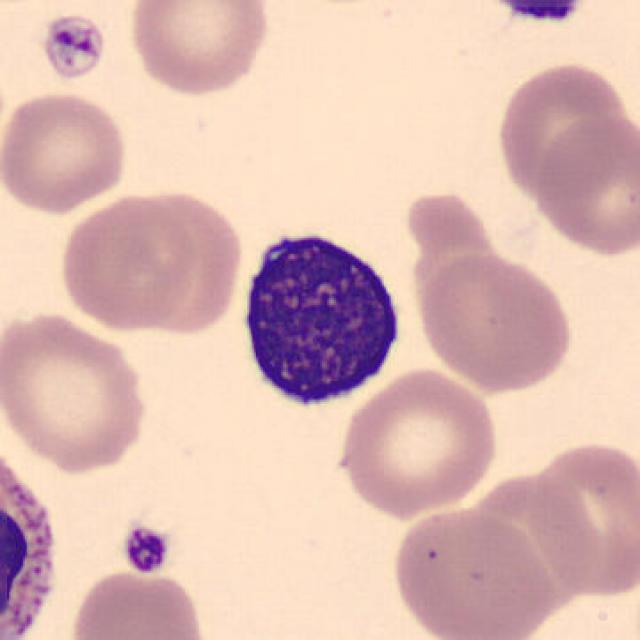Eosinophil: (0, 416, 73, 640)
Lymphocyte: (230, 215, 414, 418), (439, 0, 608, 33)
Platelets: (38, 10, 108, 84), (119, 520, 173, 577)
RBC: (332, 365, 502, 520), (0, 307, 153, 476), (412, 249, 578, 395), (389, 506, 551, 640), (55, 190, 201, 334), (492, 56, 633, 203), (123, 185, 247, 339), (528, 438, 638, 600), (0, 86, 132, 217), (532, 111, 636, 259), (124, 0, 274, 99), (65, 567, 215, 640), (400, 187, 496, 254)
